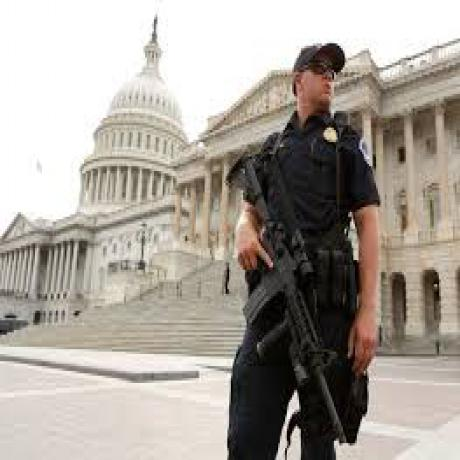Guns: (228, 151, 346, 446)
